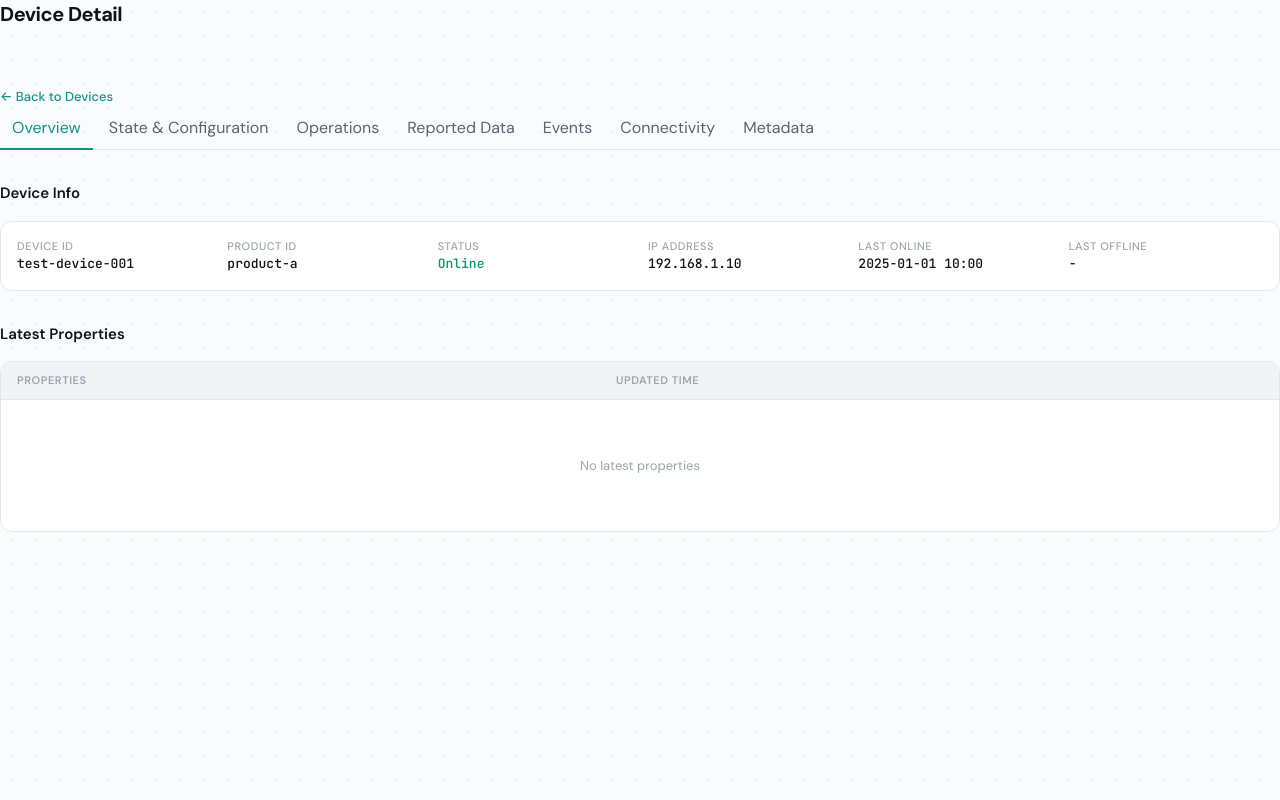
Factory metadata section › opens change log drawer for device-level metadata and queries with deviceSn
The width and height of the screenshot is (1280, 800).
What coordinates should you click on to do the following:
click the tab "Metadata"
I would click on:
 (779, 129)
Its box is [731,108,826,150].
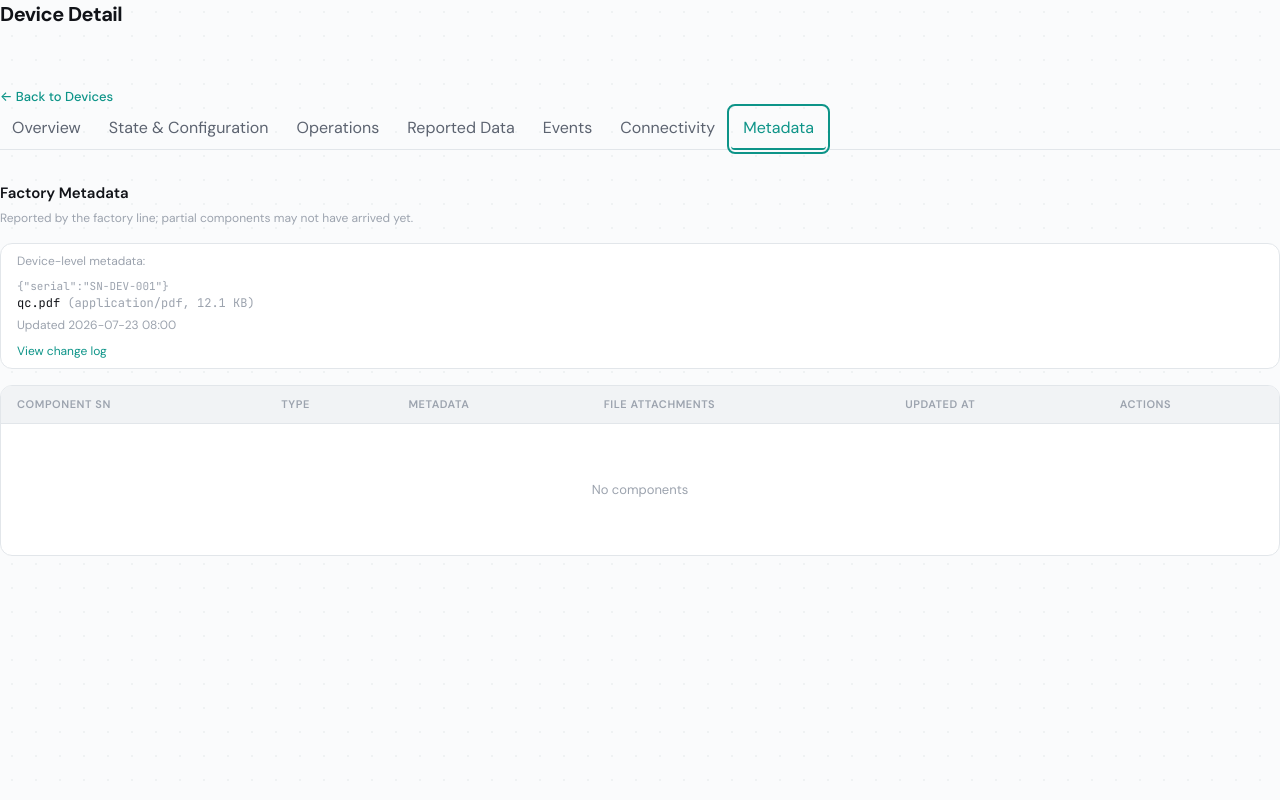
What coordinates should you click on to do the following:
click the button with test id "factory-device-changes-btn"
I would click on:
 (62, 351)
Its box is [17,342,107,360].
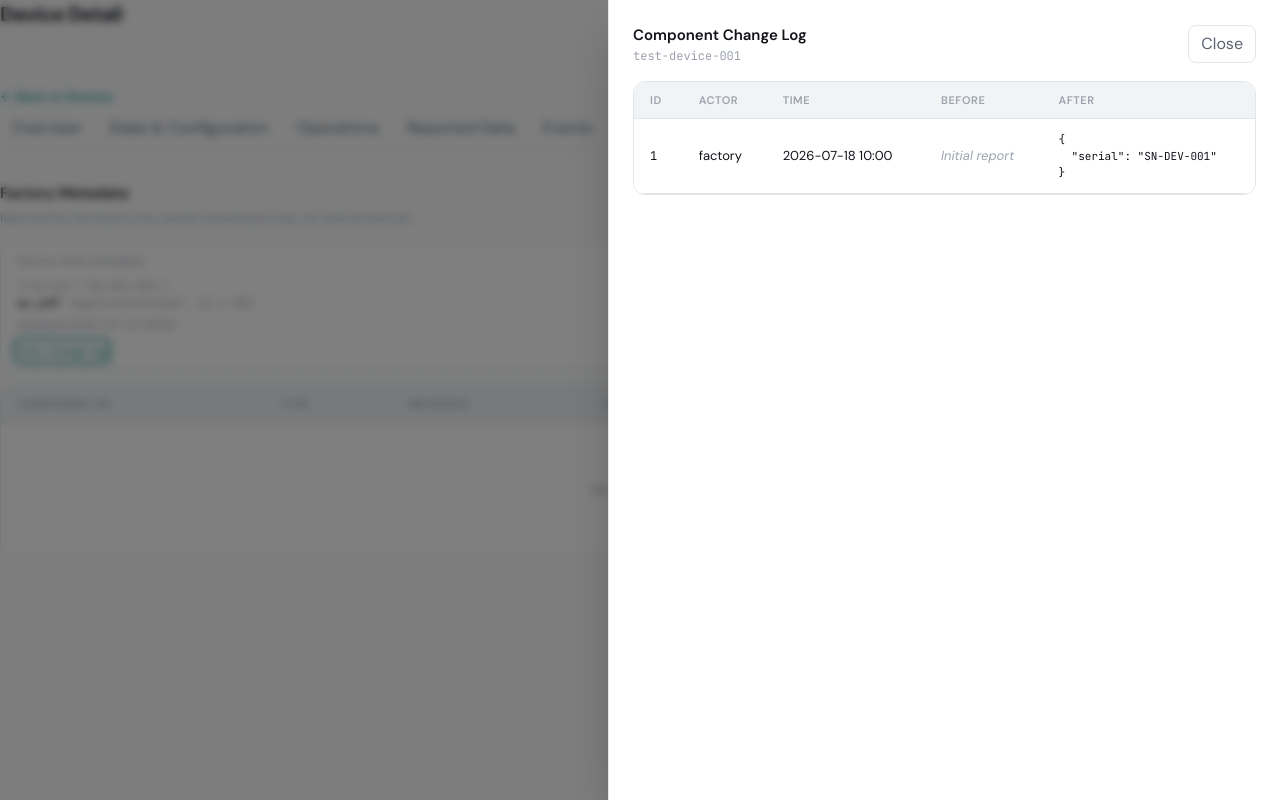
Now the element with test id "component-change-log-drawer" shows "test-device-001", box [633,48,741,64]
